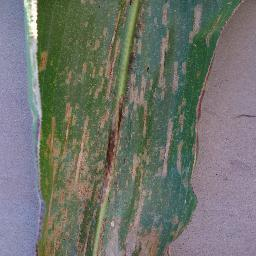Gray_Leaf_Spot: (30, 104, 153, 256), (79, 0, 152, 106), (118, 215, 205, 256), (151, 111, 197, 184), (151, 4, 176, 99), (61, 61, 82, 113), (200, 15, 237, 43), (190, 0, 205, 45), (35, 45, 53, 79), (171, 96, 195, 118), (197, 76, 208, 113), (177, 59, 189, 79), (228, 0, 243, 14), (178, 196, 195, 205)
